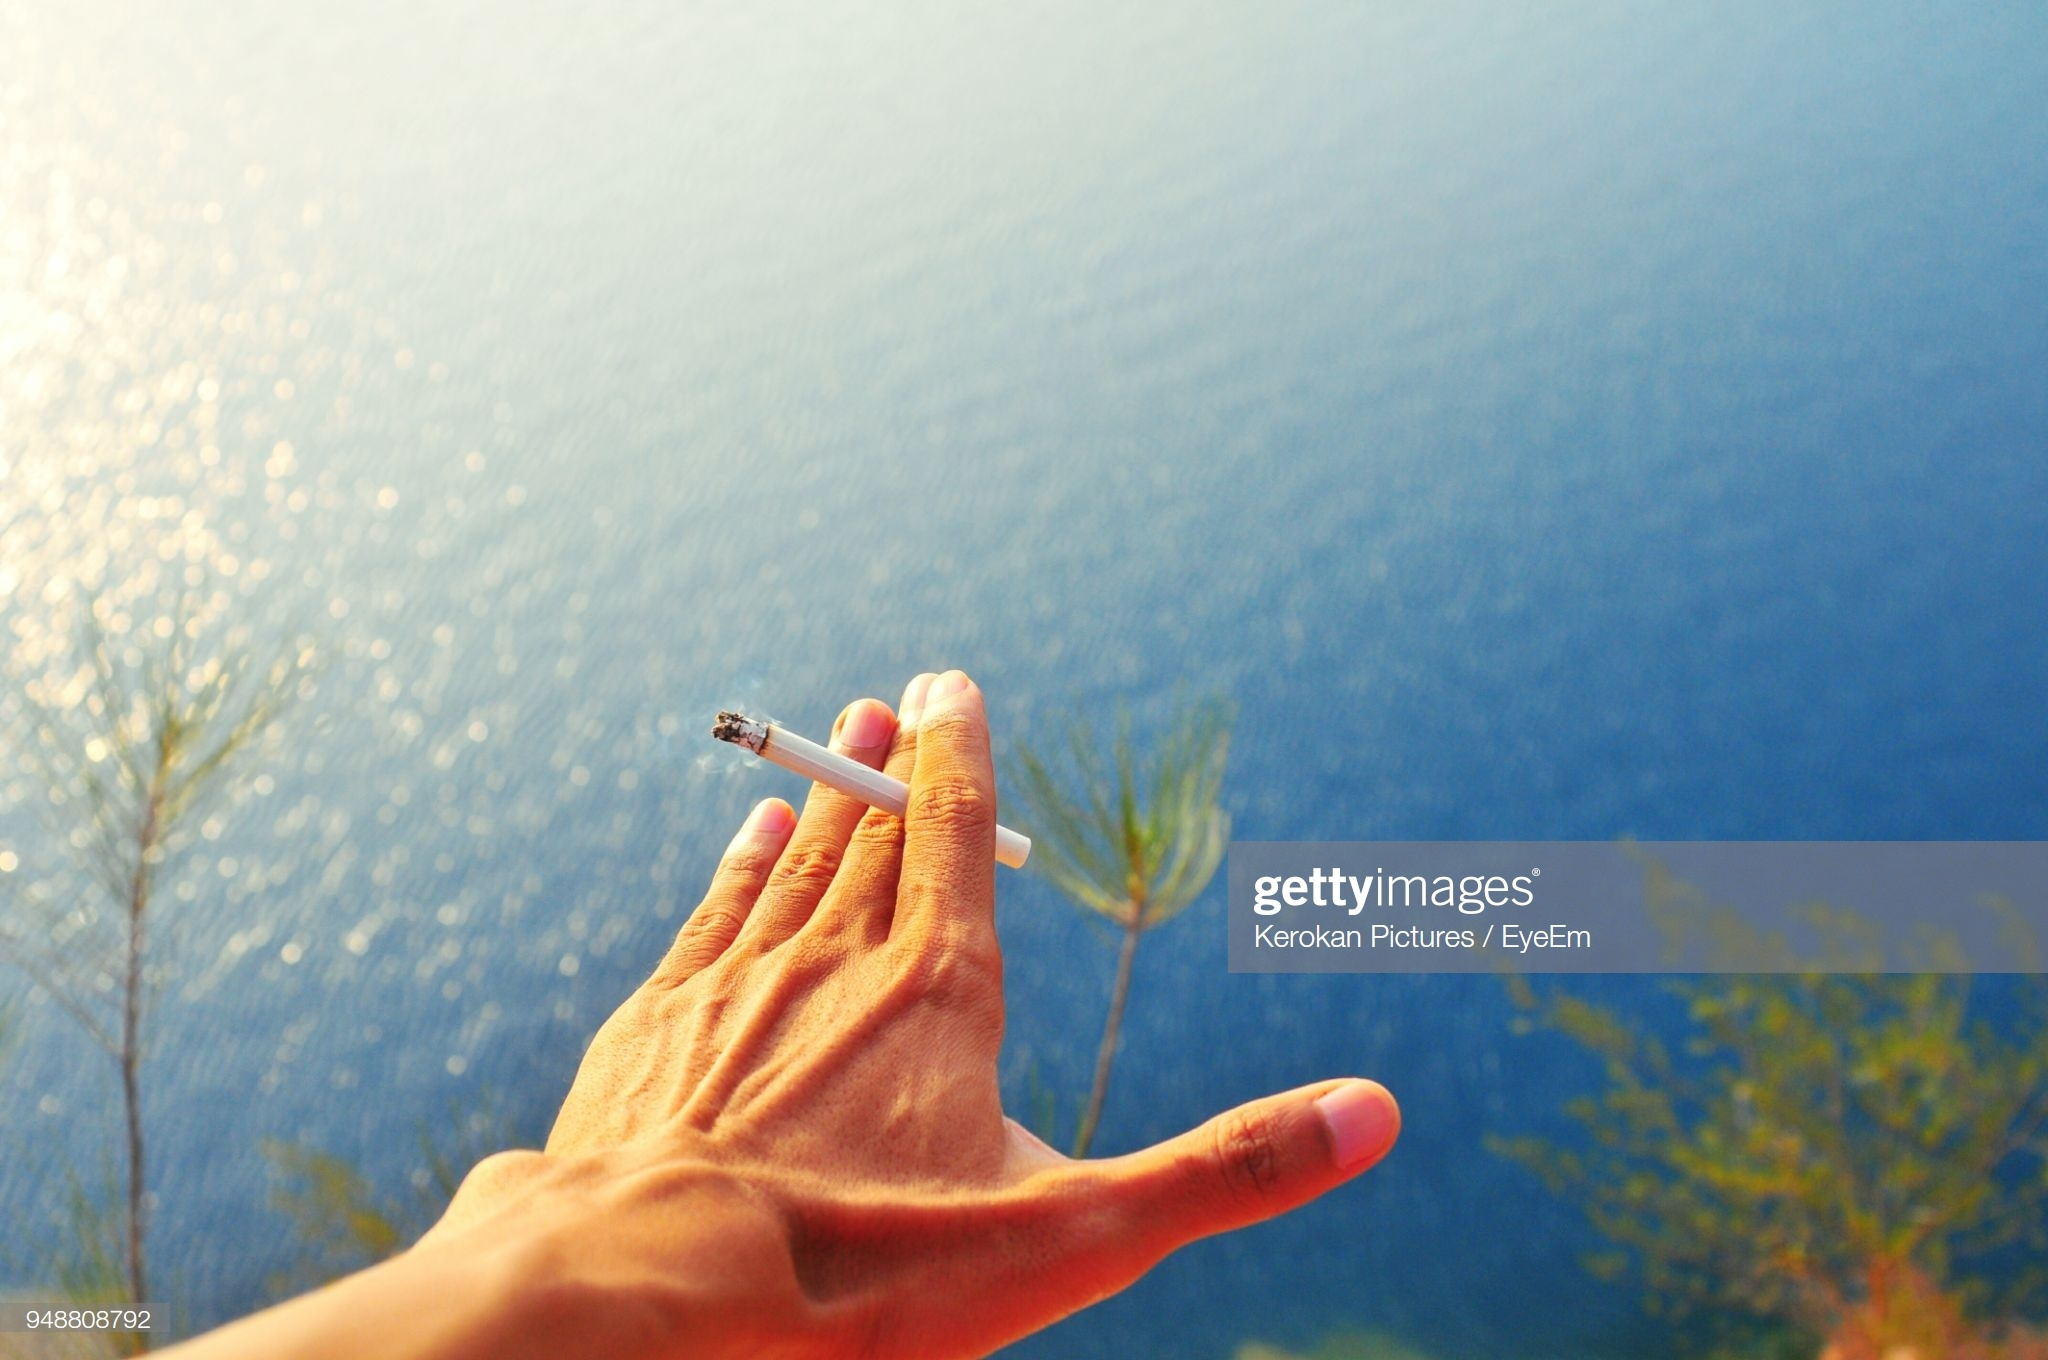sigaretta: (713, 707, 1036, 870)
